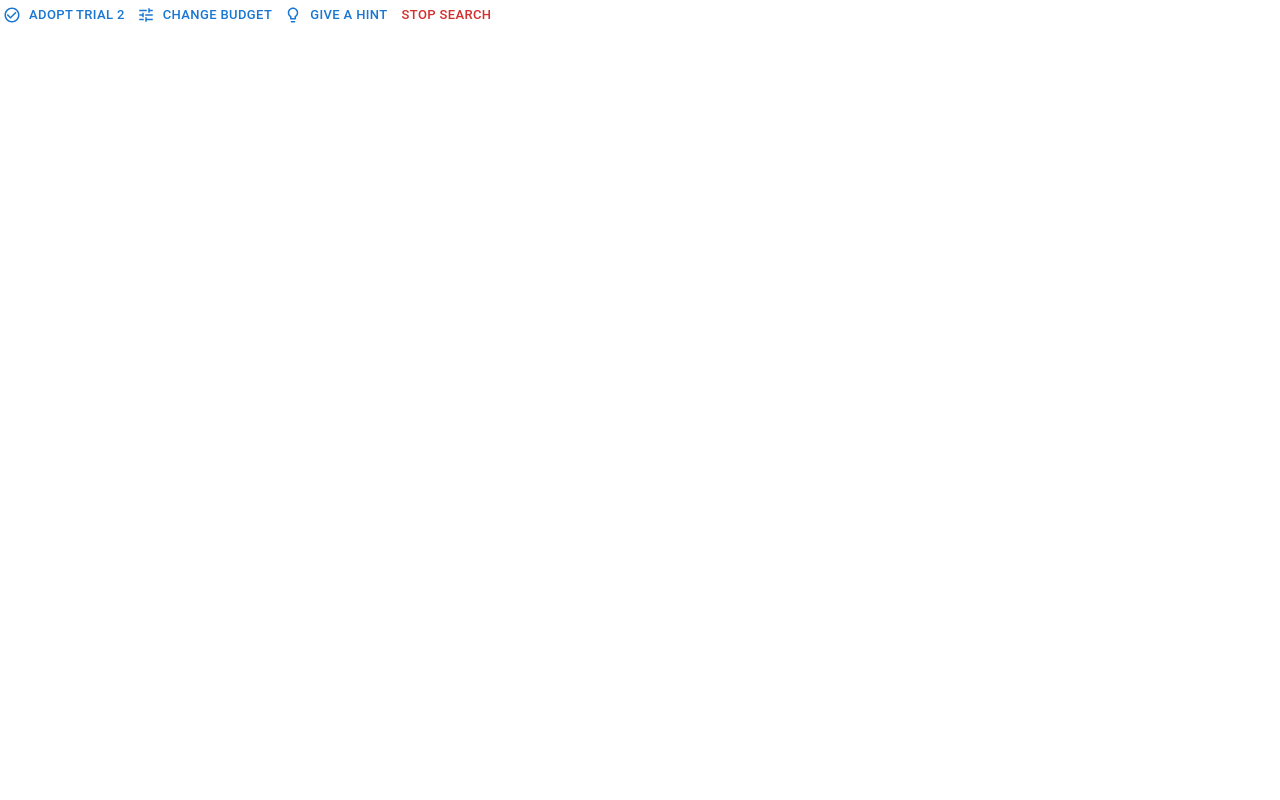
Test: the adopt dialog › shows only the trial number without a score
Click the button "Adopt trial 2": {"x": 65, "y": 15} [0,0,130,31]
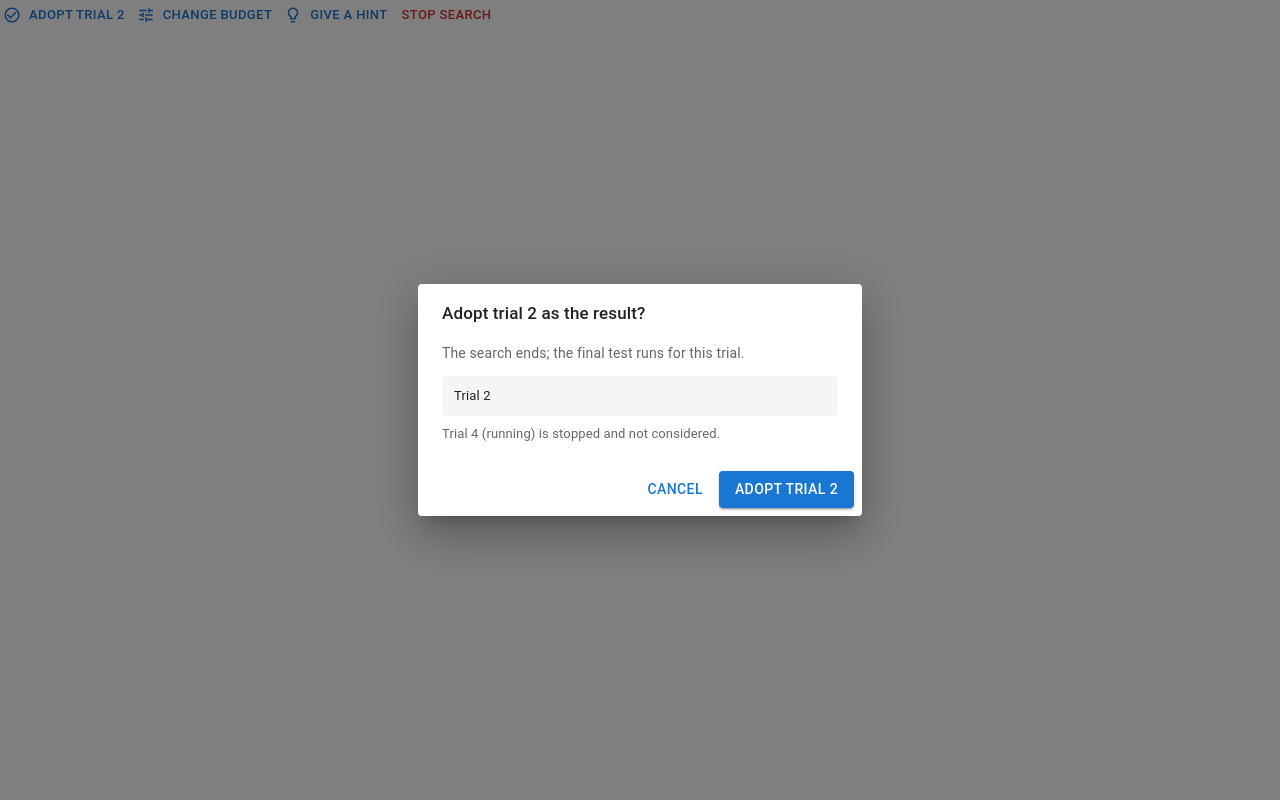
Expected: the text "Trial 2" is shown, [454,386,491,406]
